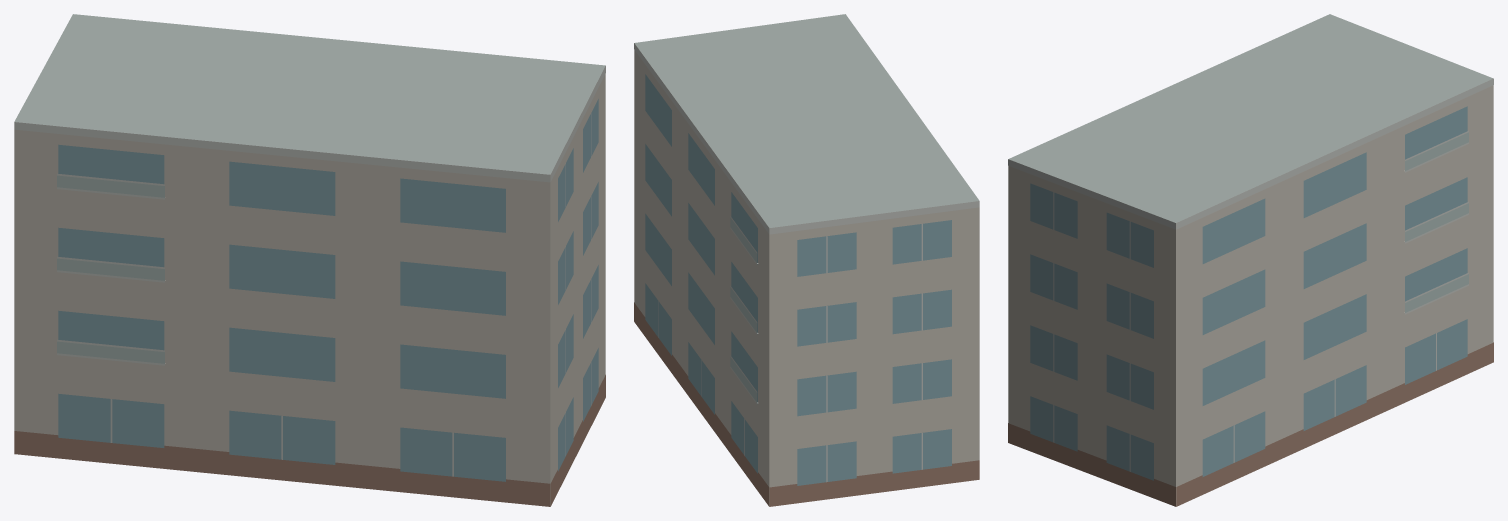
The model's file is survey-upis-32974165.glb.
3 views of the same model, side by side, from view 1: azimuth 30°, elevation 25°; view 2: azimuth 150°, elevation 25°; view 3: azimuth 270°, elevation 25° (orthographic). The views are drawn at different scales.
Visible parts, largest first — view 1: survey-upis-32974165.tmp; view 2: survey-upis-32974165.tmp; view 3: survey-upis-32974165.tmp.
Part boxes in pixels (x1,y1,x2,y2): survey-upis-32974165.tmp: [14, 14, 605, 506]; survey-upis-32974165.tmp: [634, 14, 979, 506]; survey-upis-32974165.tmp: [1008, 14, 1493, 506].
Bounding box in the file's own units: 16.77 × 10.6 × 16.45.
